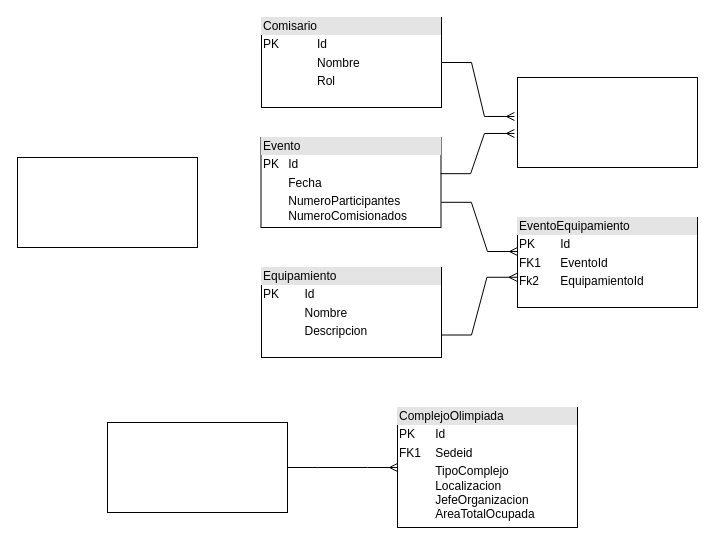
Image size: 715x545. Some labels were removed from this diagram. Each missing label, with the box of its shape:
ComisarioEvento PK Id FK1 ComisarioId FK2 EventoId: (516, 76, 698, 168)
Sede PK Id TipoSede NumeroComplejo Presupuesto: (106, 422, 288, 512)
UserProfile PK Id UserName Password IsActive: (16, 156, 198, 248)
